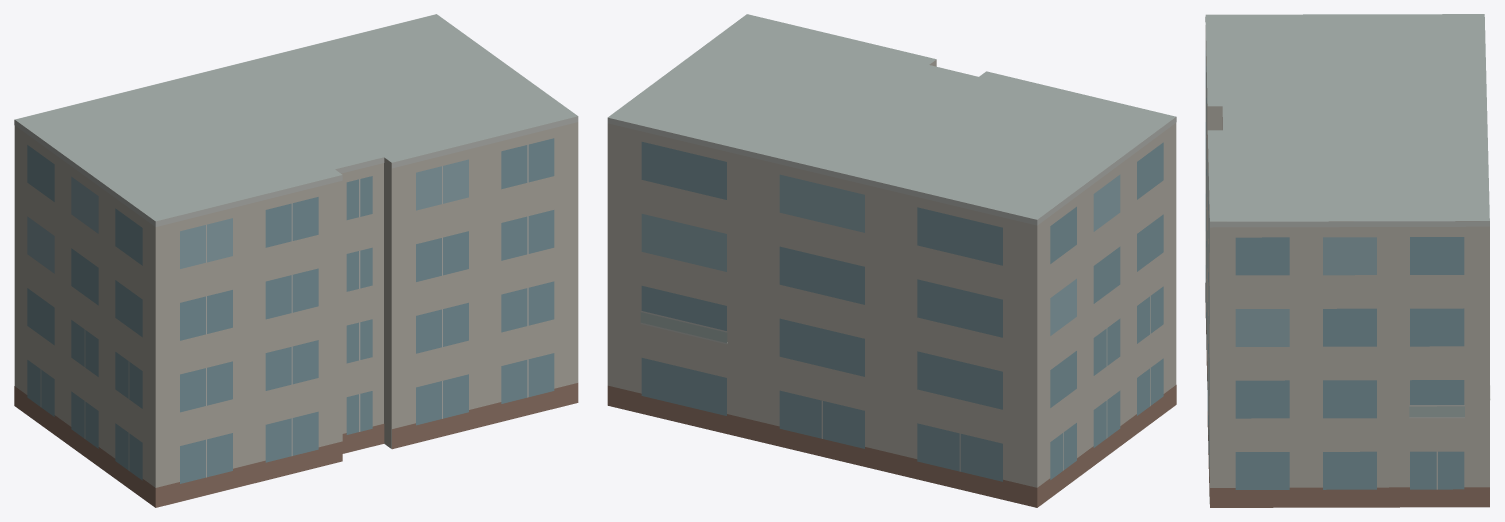
Rendered from survey-upis-32463780.glb.
3 views of the same model, side by side, from view 1: azimuth 30°, elevation 25°; view 2: azimuth 150°, elevation 25°; view 3: azimuth 270°, elevation 25° (orthographic).
Parts seen in each view (by area): view 1: survey-upis-32463780.tmp; view 2: survey-upis-32463780.tmp; view 3: survey-upis-32463780.tmp.
Boxes of the visible parts, x1,y1,x2,y2 form: survey-upis-32463780.tmp: [14, 14, 578, 507]; survey-upis-32463780.tmp: [607, 14, 1176, 507]; survey-upis-32463780.tmp: [1205, 14, 1490, 507].
Size of the model in its own units: 19.01 by 12.2 by 11.02.
